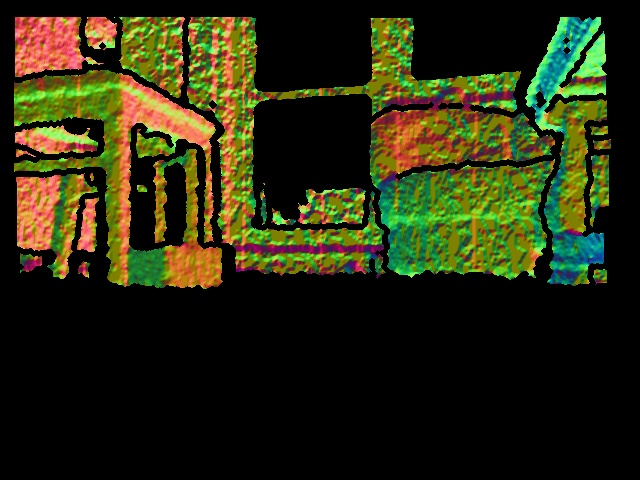station: (128, 144, 226, 290)
